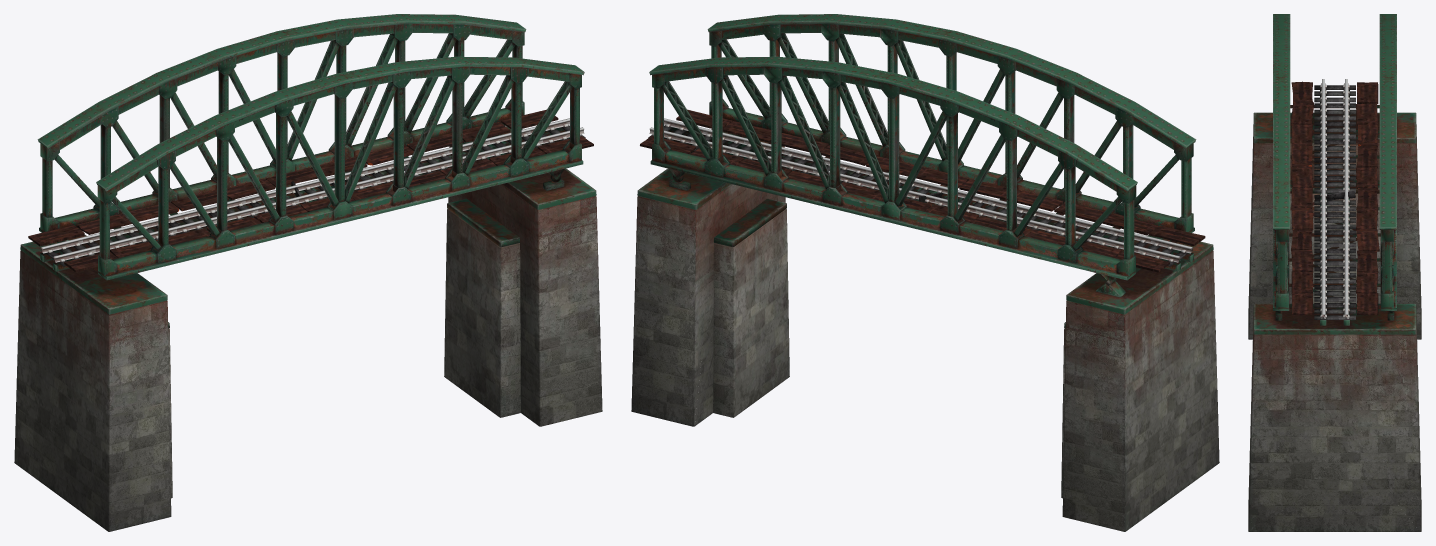
3 views of the same model, side by side, from view 1: azimuth 30°, elevation 25°; view 2: azimuth 150°, elevation 25°; view 3: azimuth 270°, elevation 25° (orthographic). The views are drawn at different scales.
Visible parts, largest first — view 1: mesh_0, mesh_0_2, mesh_0_1, mesh_0_3; view 2: mesh_0, mesh_0_2, mesh_0_1, mesh_0_3; view 3: mesh_0, mesh_0_1, mesh_0_2, mesh_0_3.
Part boxes in pixels (x1=…): mesh_0: x1=14, y1=14, x2=602, y2=531; mesh_0_2: x1=28, y1=109, x2=593, y2=272; mesh_0_1: x1=47, y1=21, x2=596, y2=328; mesh_0_3: x1=64, y1=130, x2=569, y2=267; mesh_0: x1=631, y1=14, x2=1219, y2=531; mesh_0_2: x1=640, y1=109, x2=1205, y2=272; mesh_0_1: x1=637, y1=25, x2=1213, y2=425; mesh_0_3: x1=677, y1=118, x2=1198, y2=249; mesh_0: x1=1248, y1=14, x2=1421, y2=531; mesh_0_1: x1=1249, y1=75, x2=1420, y2=531; mesh_0_2: x1=1290, y1=81, x2=1379, y2=315; mesh_0_3: x1=1291, y1=102, x2=1377, y2=315.
Size of the model in its own units: 16.19 by 11.13 by 5.02.
1 material, 1 textured.
